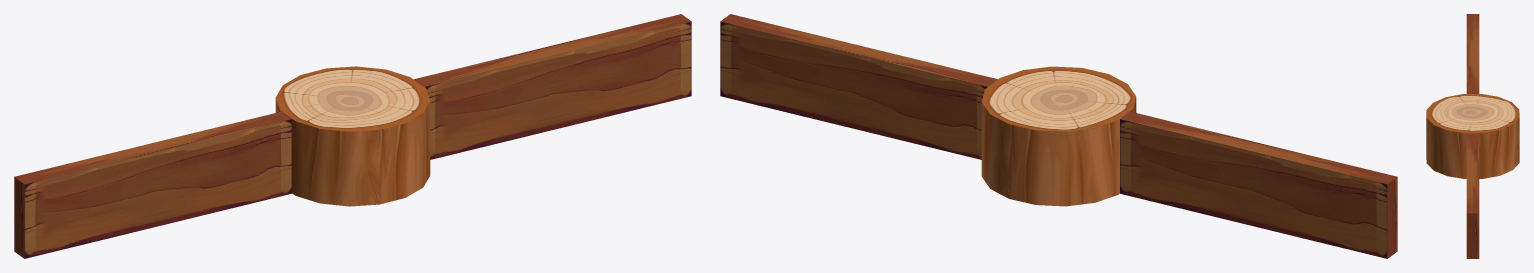
File: two_blade_wood_02.fbx
3 views of the same model, side by side, from view 1: azimuth 30°, elevation 25°; view 2: azimuth 150°, elevation 25°; view 3: azimuth 270°, elevation 25° (orthographic). The views are drawn at different scales.
Visible parts, largest first — view 1: two_blade_wood_02; view 2: two_blade_wood_02; view 3: two_blade_wood_02.
Part boxes in pixels (bbox=[...]): two_blade_wood_02: bbox=[14, 14, 691, 258]; two_blade_wood_02: bbox=[720, 14, 1397, 258]; two_blade_wood_02: bbox=[1426, 14, 1519, 258].
Size of the model in its own units: 374 by 40 by 74.15.
